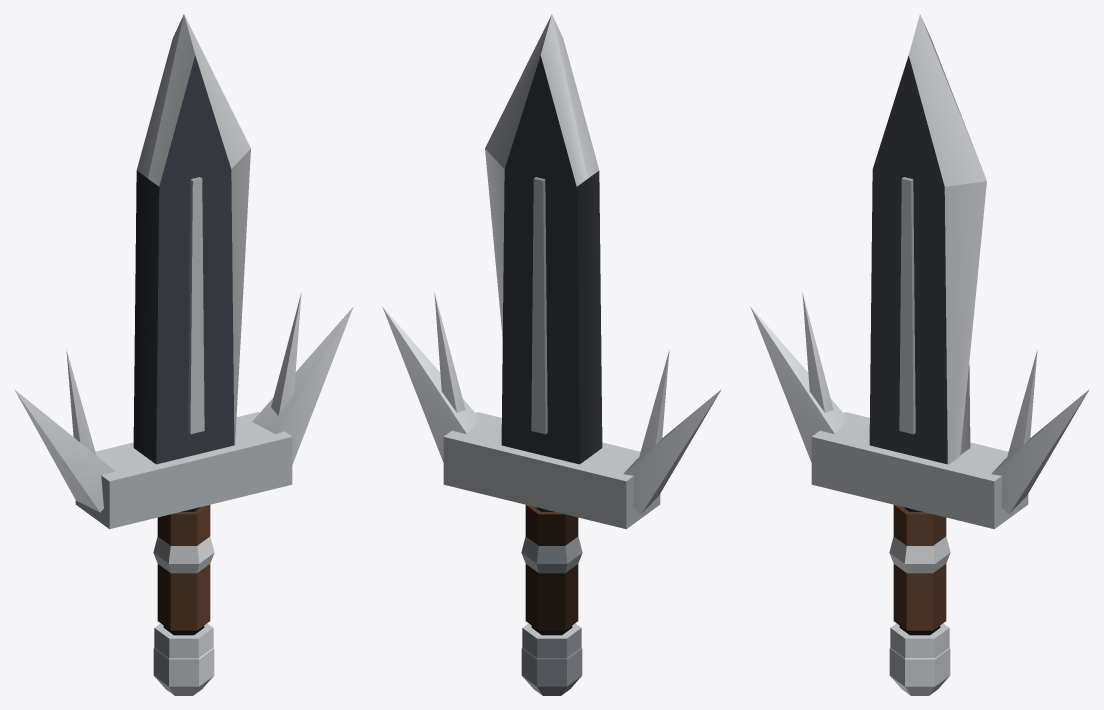
File: rogue_off_2.gltf
The picture shows the model from 3 angles, left to right: view 1: azimuth 30°, elevation 25°; view 2: azimuth 150°, elevation 25°; view 3: azimuth 330°, elevation 25°; orthographic projection.
Parts seen in each view (by area): view 1: rogue_off_2; view 2: rogue_off_2; view 3: rogue_off_2.
Part boxes in pixels (box(x1,y1,x2,y2)): rogue_off_2: box(14, 14, 353, 695); rogue_off_2: box(382, 14, 721, 695); rogue_off_2: box(750, 14, 1089, 695).
Bounding box in the file's own units: 0.52 × 0.988 × 0.09.
1 material, 1 textured.
